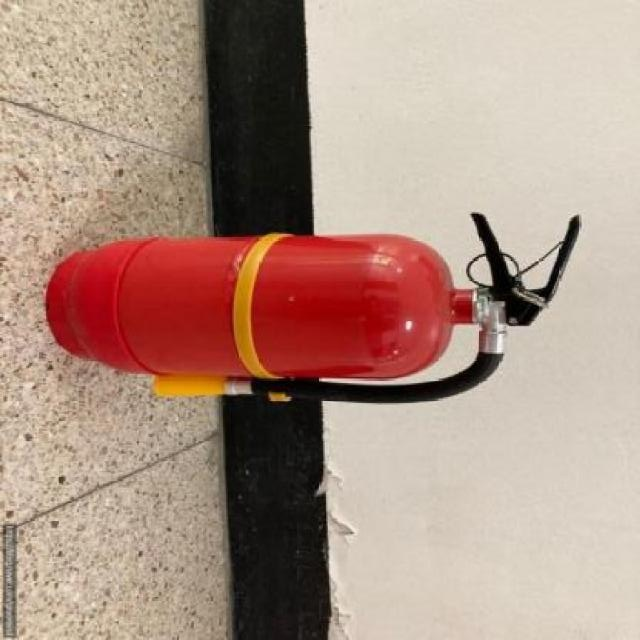fire extinguisher: (45, 211, 583, 404)
